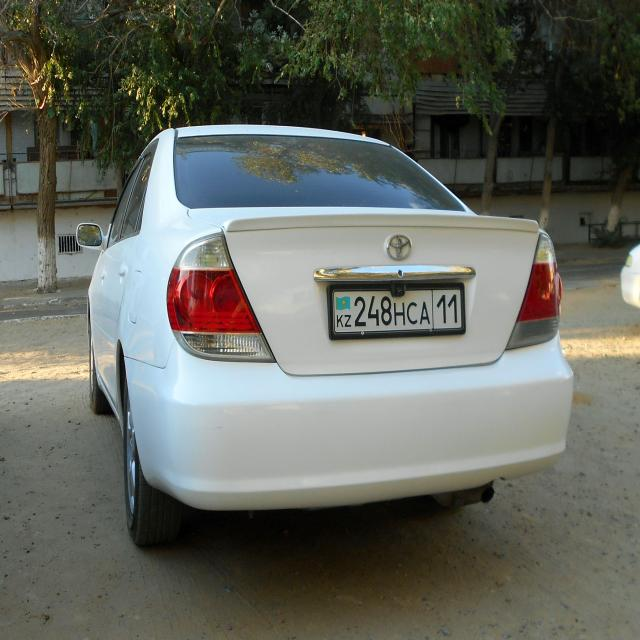car: (76, 123, 574, 547)
license: (327, 282, 466, 340)
